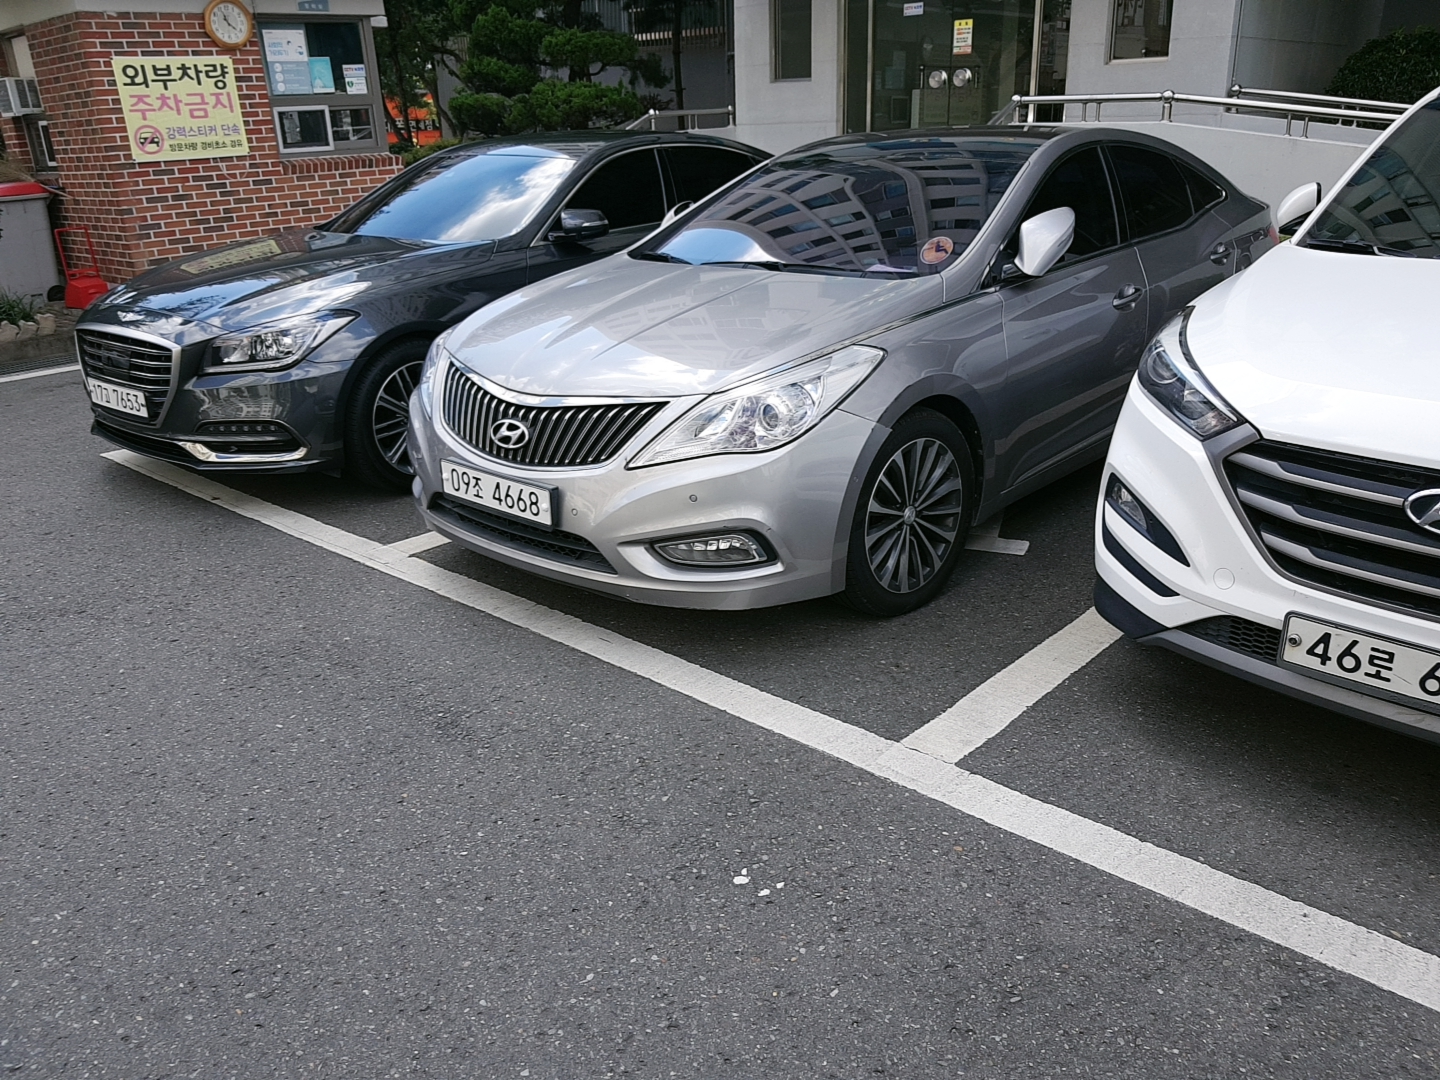disabled_parking: (916, 233, 954, 265)
